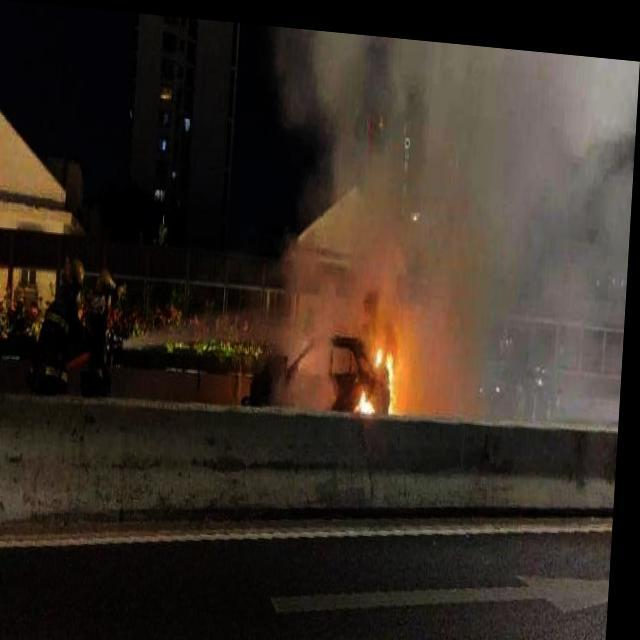Fire: (353, 317, 410, 418)
